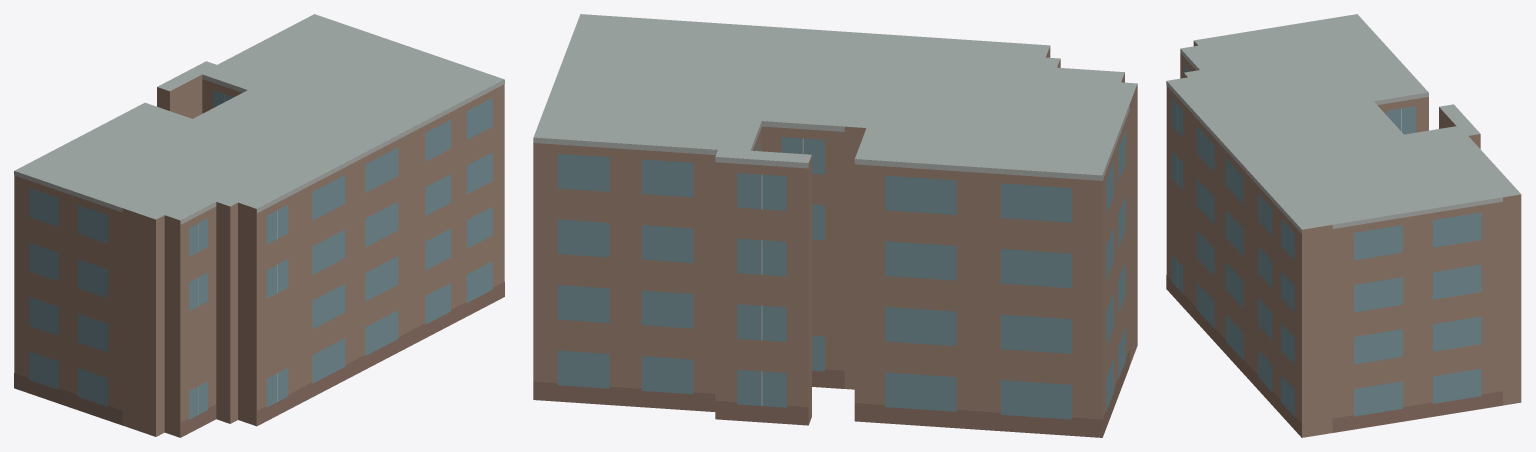
File: survey-upis-32860371.glb
The picture shows the model from 3 angles, left to right: view 1: azimuth 30°, elevation 25°; view 2: azimuth 150°, elevation 25°; view 3: azimuth 270°, elevation 25°; orthographic projection. The views are drawn at different scales.
Visible parts, largest first — view 1: survey-upis-32860371.tmp; view 2: survey-upis-32860371.tmp; view 3: survey-upis-32860371.tmp.
Boxes of the visible parts, x1,y1,x2,y2 form: survey-upis-32860371.tmp: (14,14,504,437); survey-upis-32860371.tmp: (533,14,1137,437); survey-upis-32860371.tmp: (1166,14,1521,437).
Bounding box in the file's own units: 26.22 × 11.8 × 18.24.
